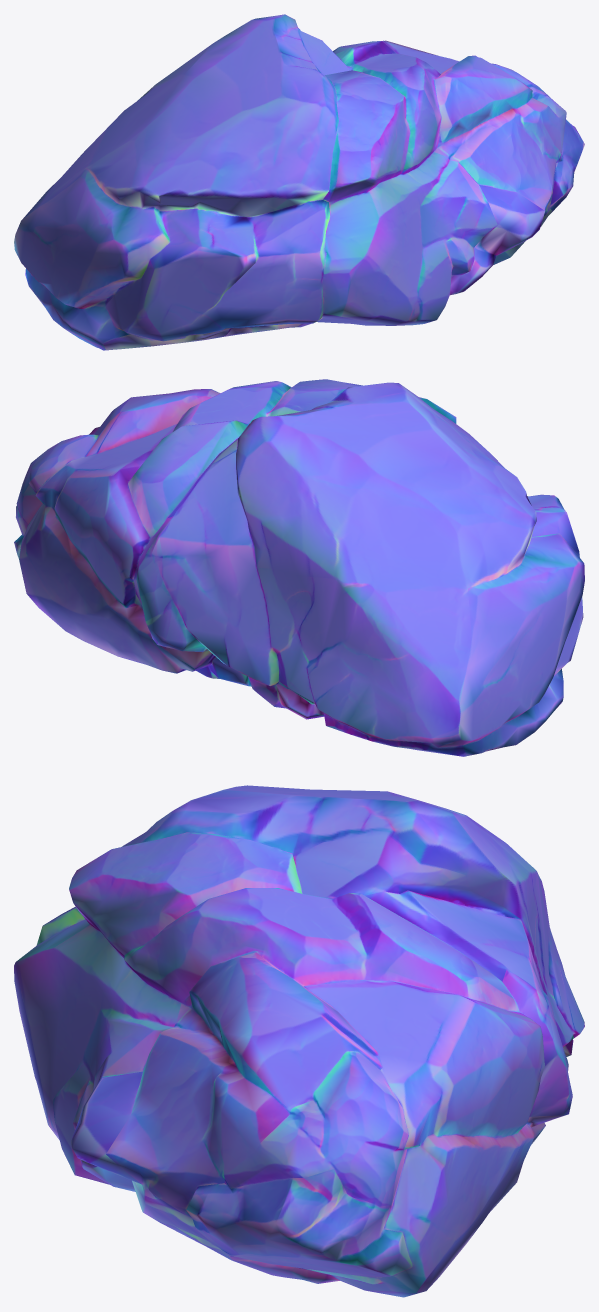
The model's file is Boulder05.fbx.
3 views of the same model, one above another, from view 1: azimuth 30°, elevation 25°; view 2: azimuth 150°, elevation 25°; view 3: azimuth 270°, elevation 25° (orthographic). The views are drawn at different scales.
Parts seen in each view (by area): view 1: Boulder05_LOD0; view 2: Boulder05_LOD0; view 3: Boulder05_LOD0.
Boxes of the visible parts, x1,y1,x2,y2 form: Boulder05_LOD0: (14, 14, 584, 350); Boulder05_LOD0: (14, 379, 584, 756); Boulder05_LOD0: (14, 785, 584, 1297).
Size of what is drawn, in the model's own units: 549 by 277 by 375.
